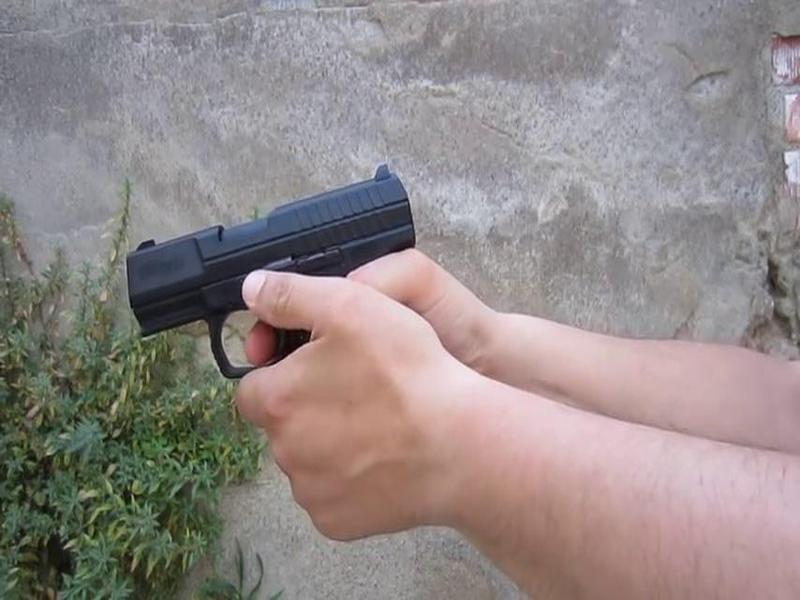Pistola: (97, 130, 417, 397)
